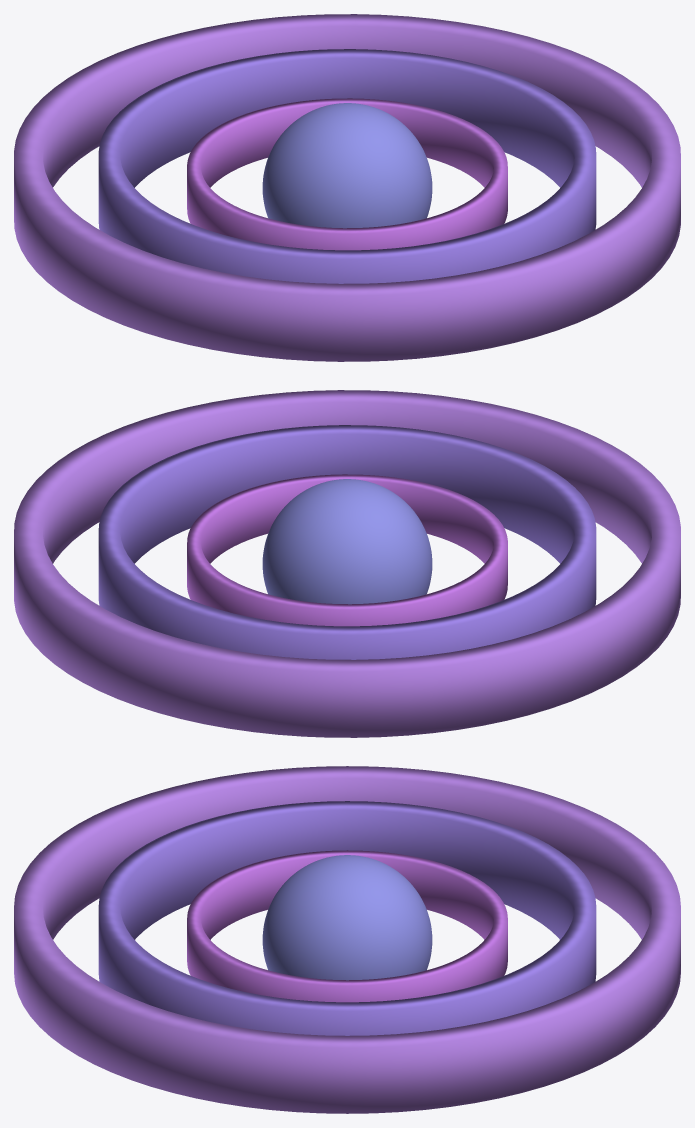
Rendered from Effet-cylindre.glb.
3 renders of one model, top to bottom at view 1: azimuth 30°, elevation 25°; view 2: azimuth 150°, elevation 25°; view 3: azimuth 270°, elevation 25°, orthographic.
Parts seen in each view (by area): view 1: Cylindre.002, Cylindre.001, Cylindre, Sphère; view 2: Cylindre.002, Cylindre.001, Cylindre, Sphère; view 3: Cylindre.002, Cylindre.001, Cylindre, Sphère.
Boxes of the visible parts, left/top/right/bottom form: Cylindre.002: left=14, top=14, right=680, bottom=361; Cylindre.001: left=98, top=49, right=596, bottom=283; Cylindre: left=187, top=98, right=507, bottom=250; Sphère: left=262, top=103, right=432, bottom=228; Cylindre.002: left=14, top=390, right=680, bottom=737; Cylindre.001: left=98, top=425, right=596, bottom=659; Cylindre: left=187, top=474, right=507, bottom=626; Sphère: left=262, top=479, right=432, bottom=604; Cylindre.002: left=14, top=766, right=680, bottom=1113; Cylindre.001: left=98, top=801, right=596, bottom=1035; Cylindre: left=187, top=850, right=507, bottom=1002; Sphère: left=262, top=855, right=432, bottom=980.
Bounding box in the file's own units: 2.61 × 0.6655 × 2.61.
